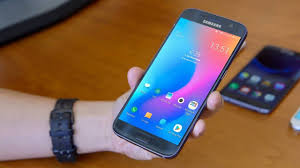samsung: (111, 5, 246, 159)
